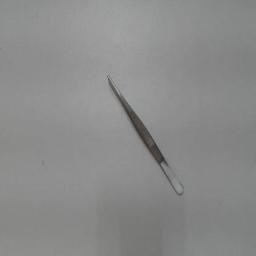Gillies Toothed Dissector: (101, 68, 189, 200)
